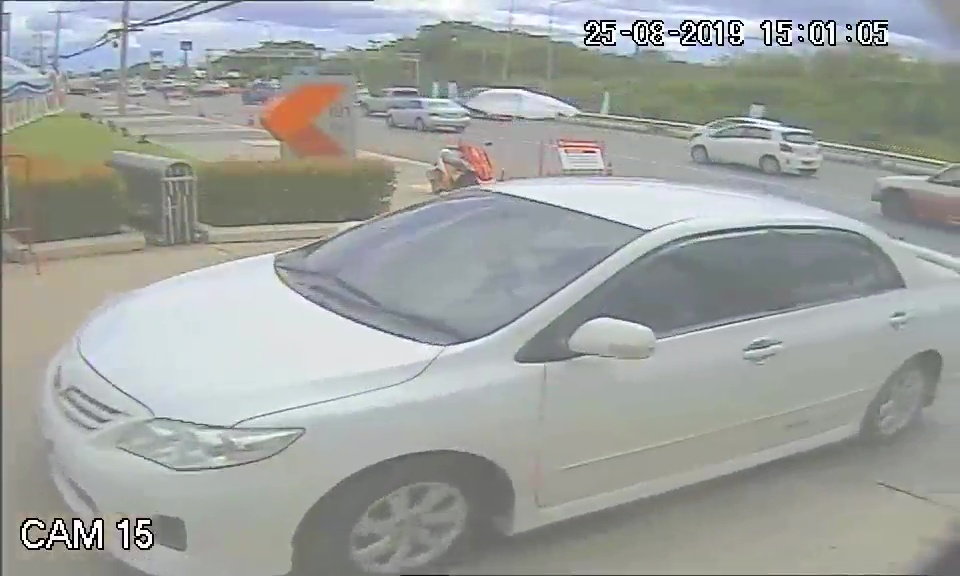sedan: (32, 179, 957, 575)
